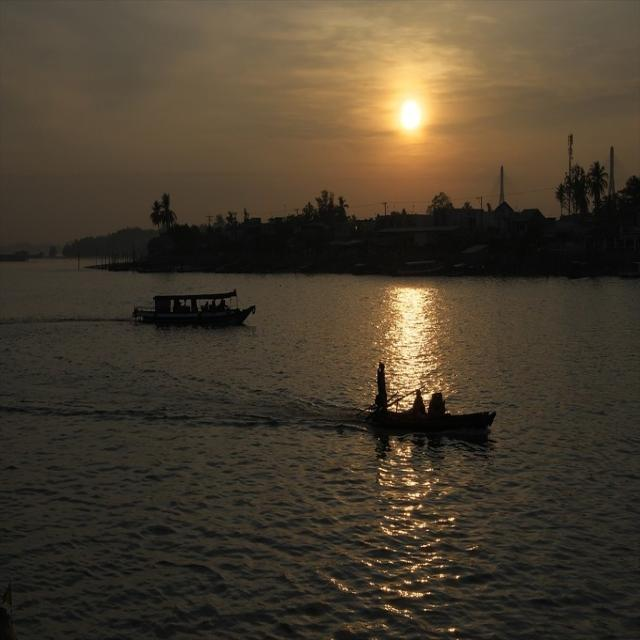boat: (124, 286, 260, 334), (354, 406, 504, 440)
